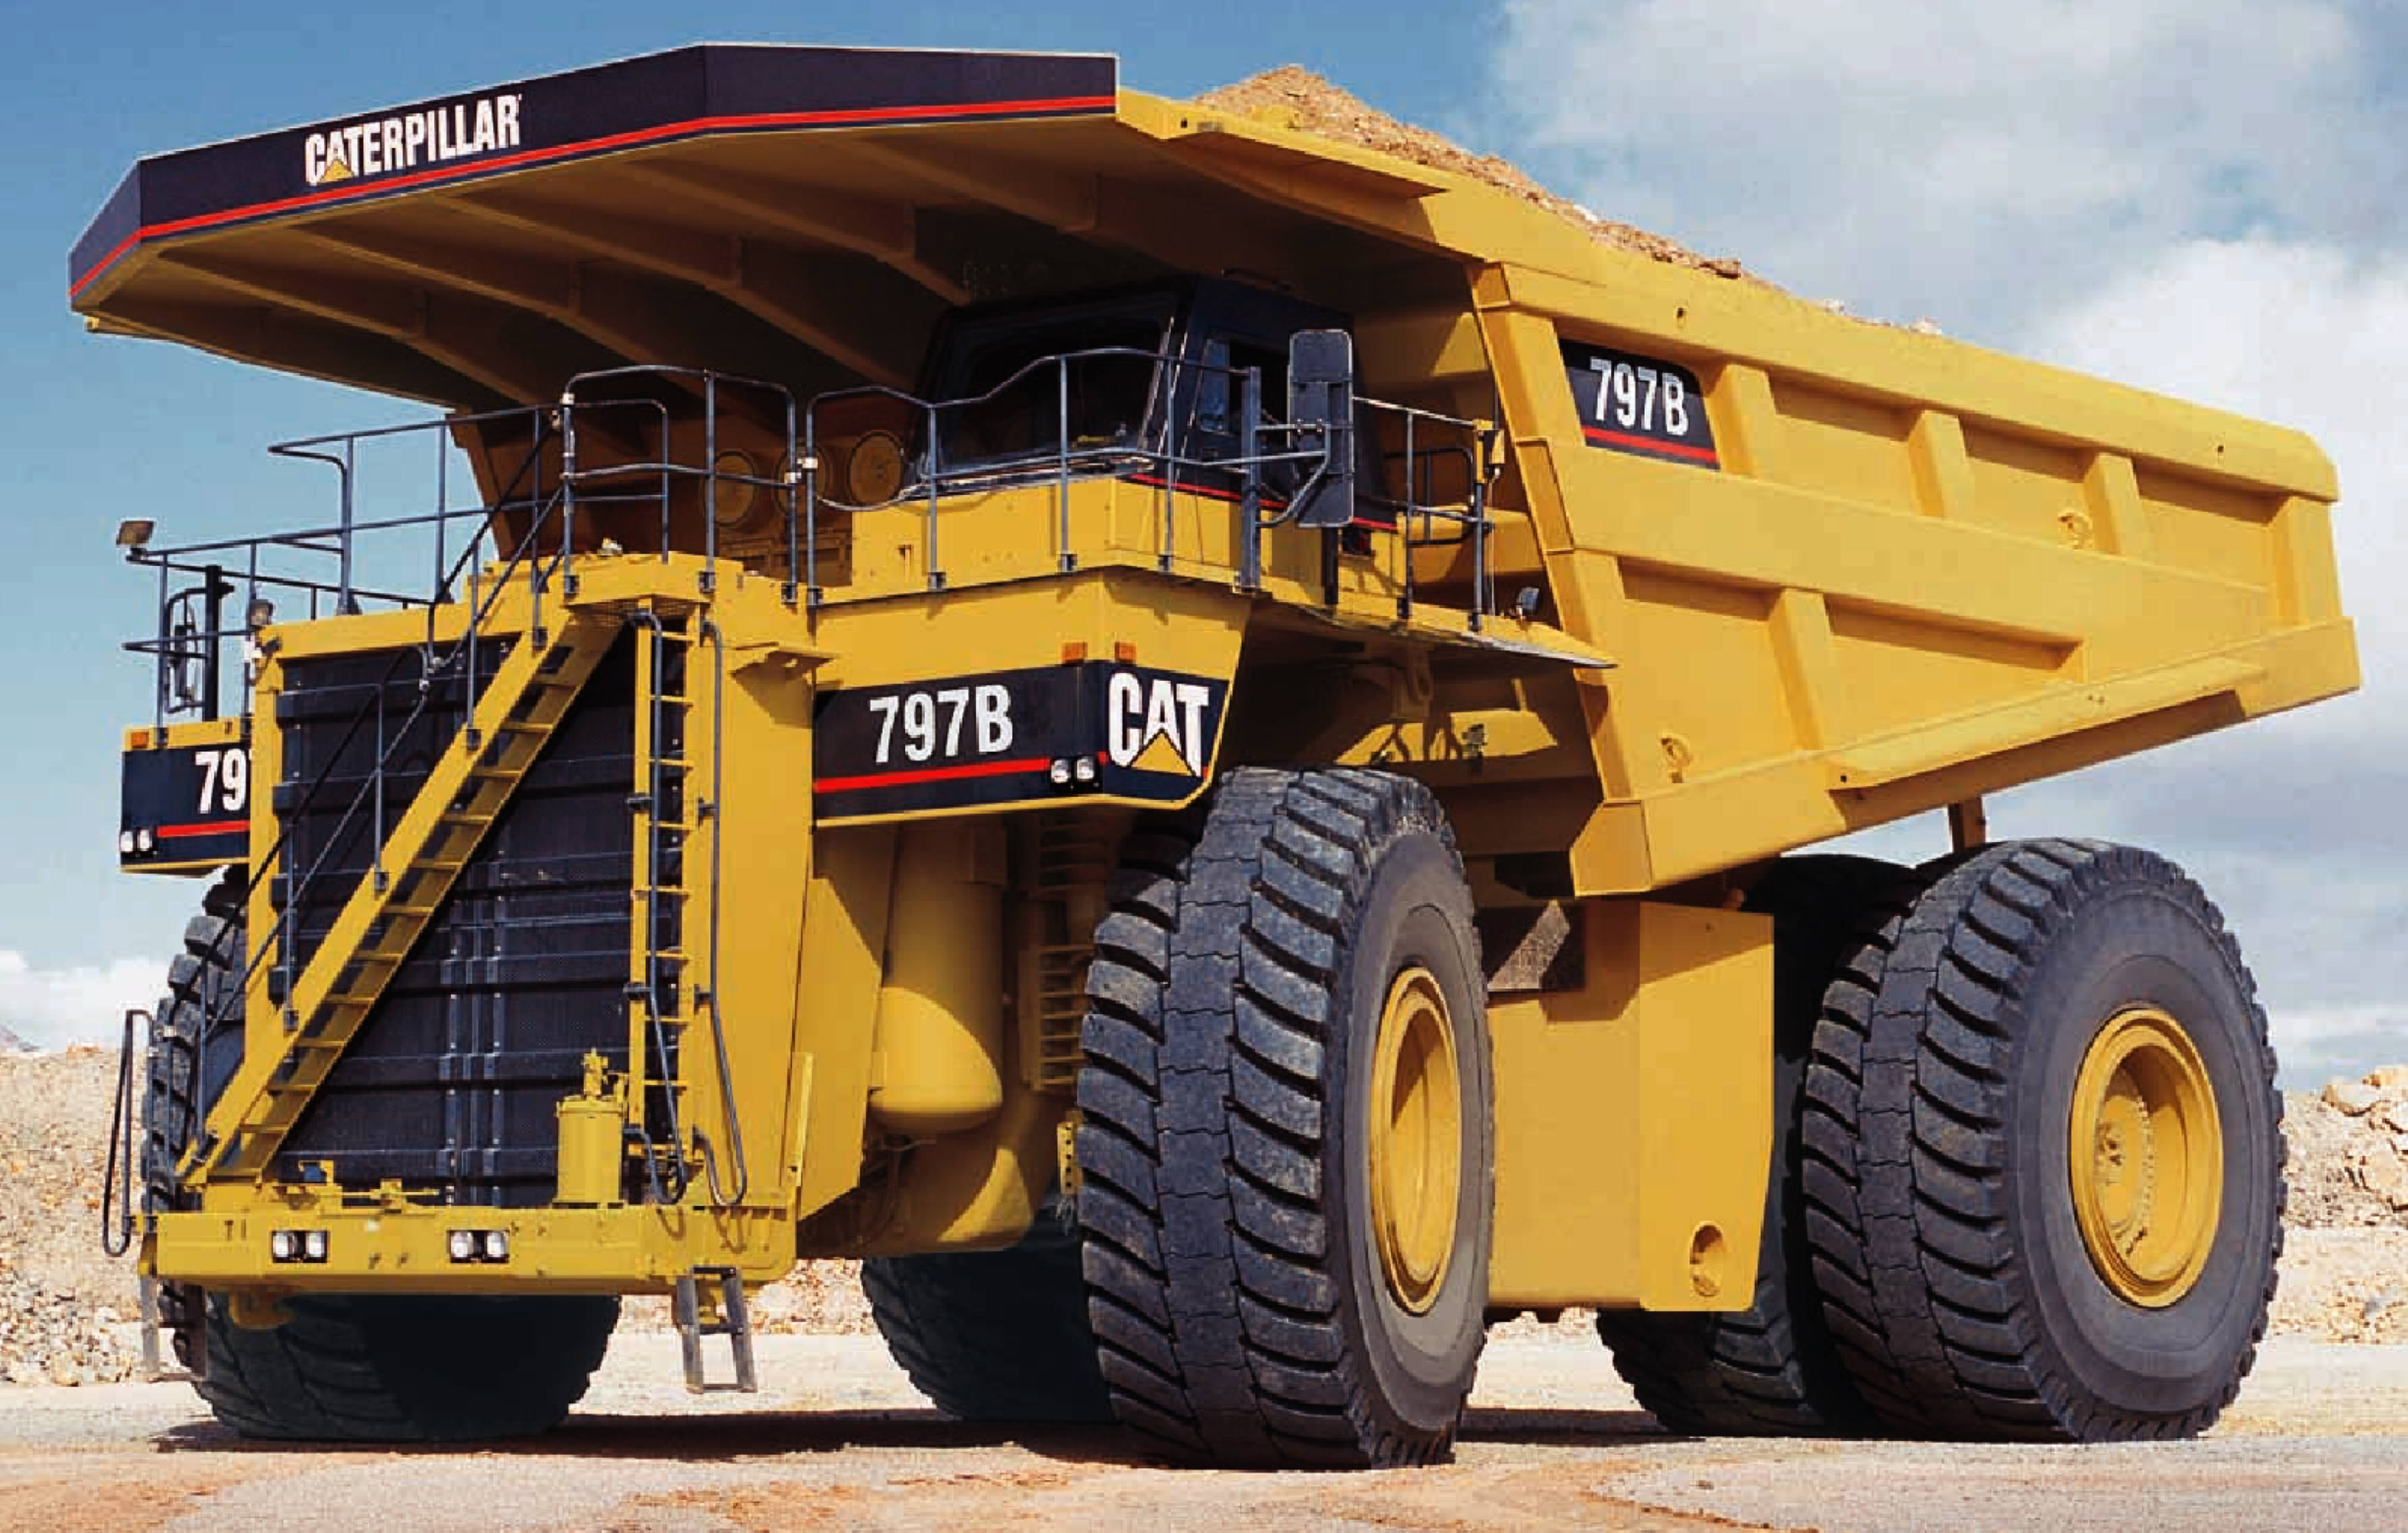truck: (67, 25, 2355, 1452)
